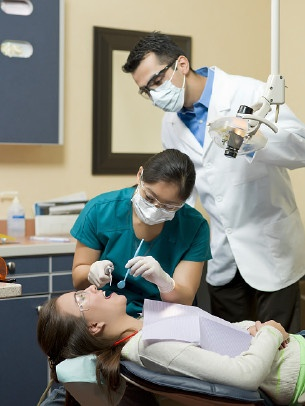Mask: (134, 68, 179, 113)
